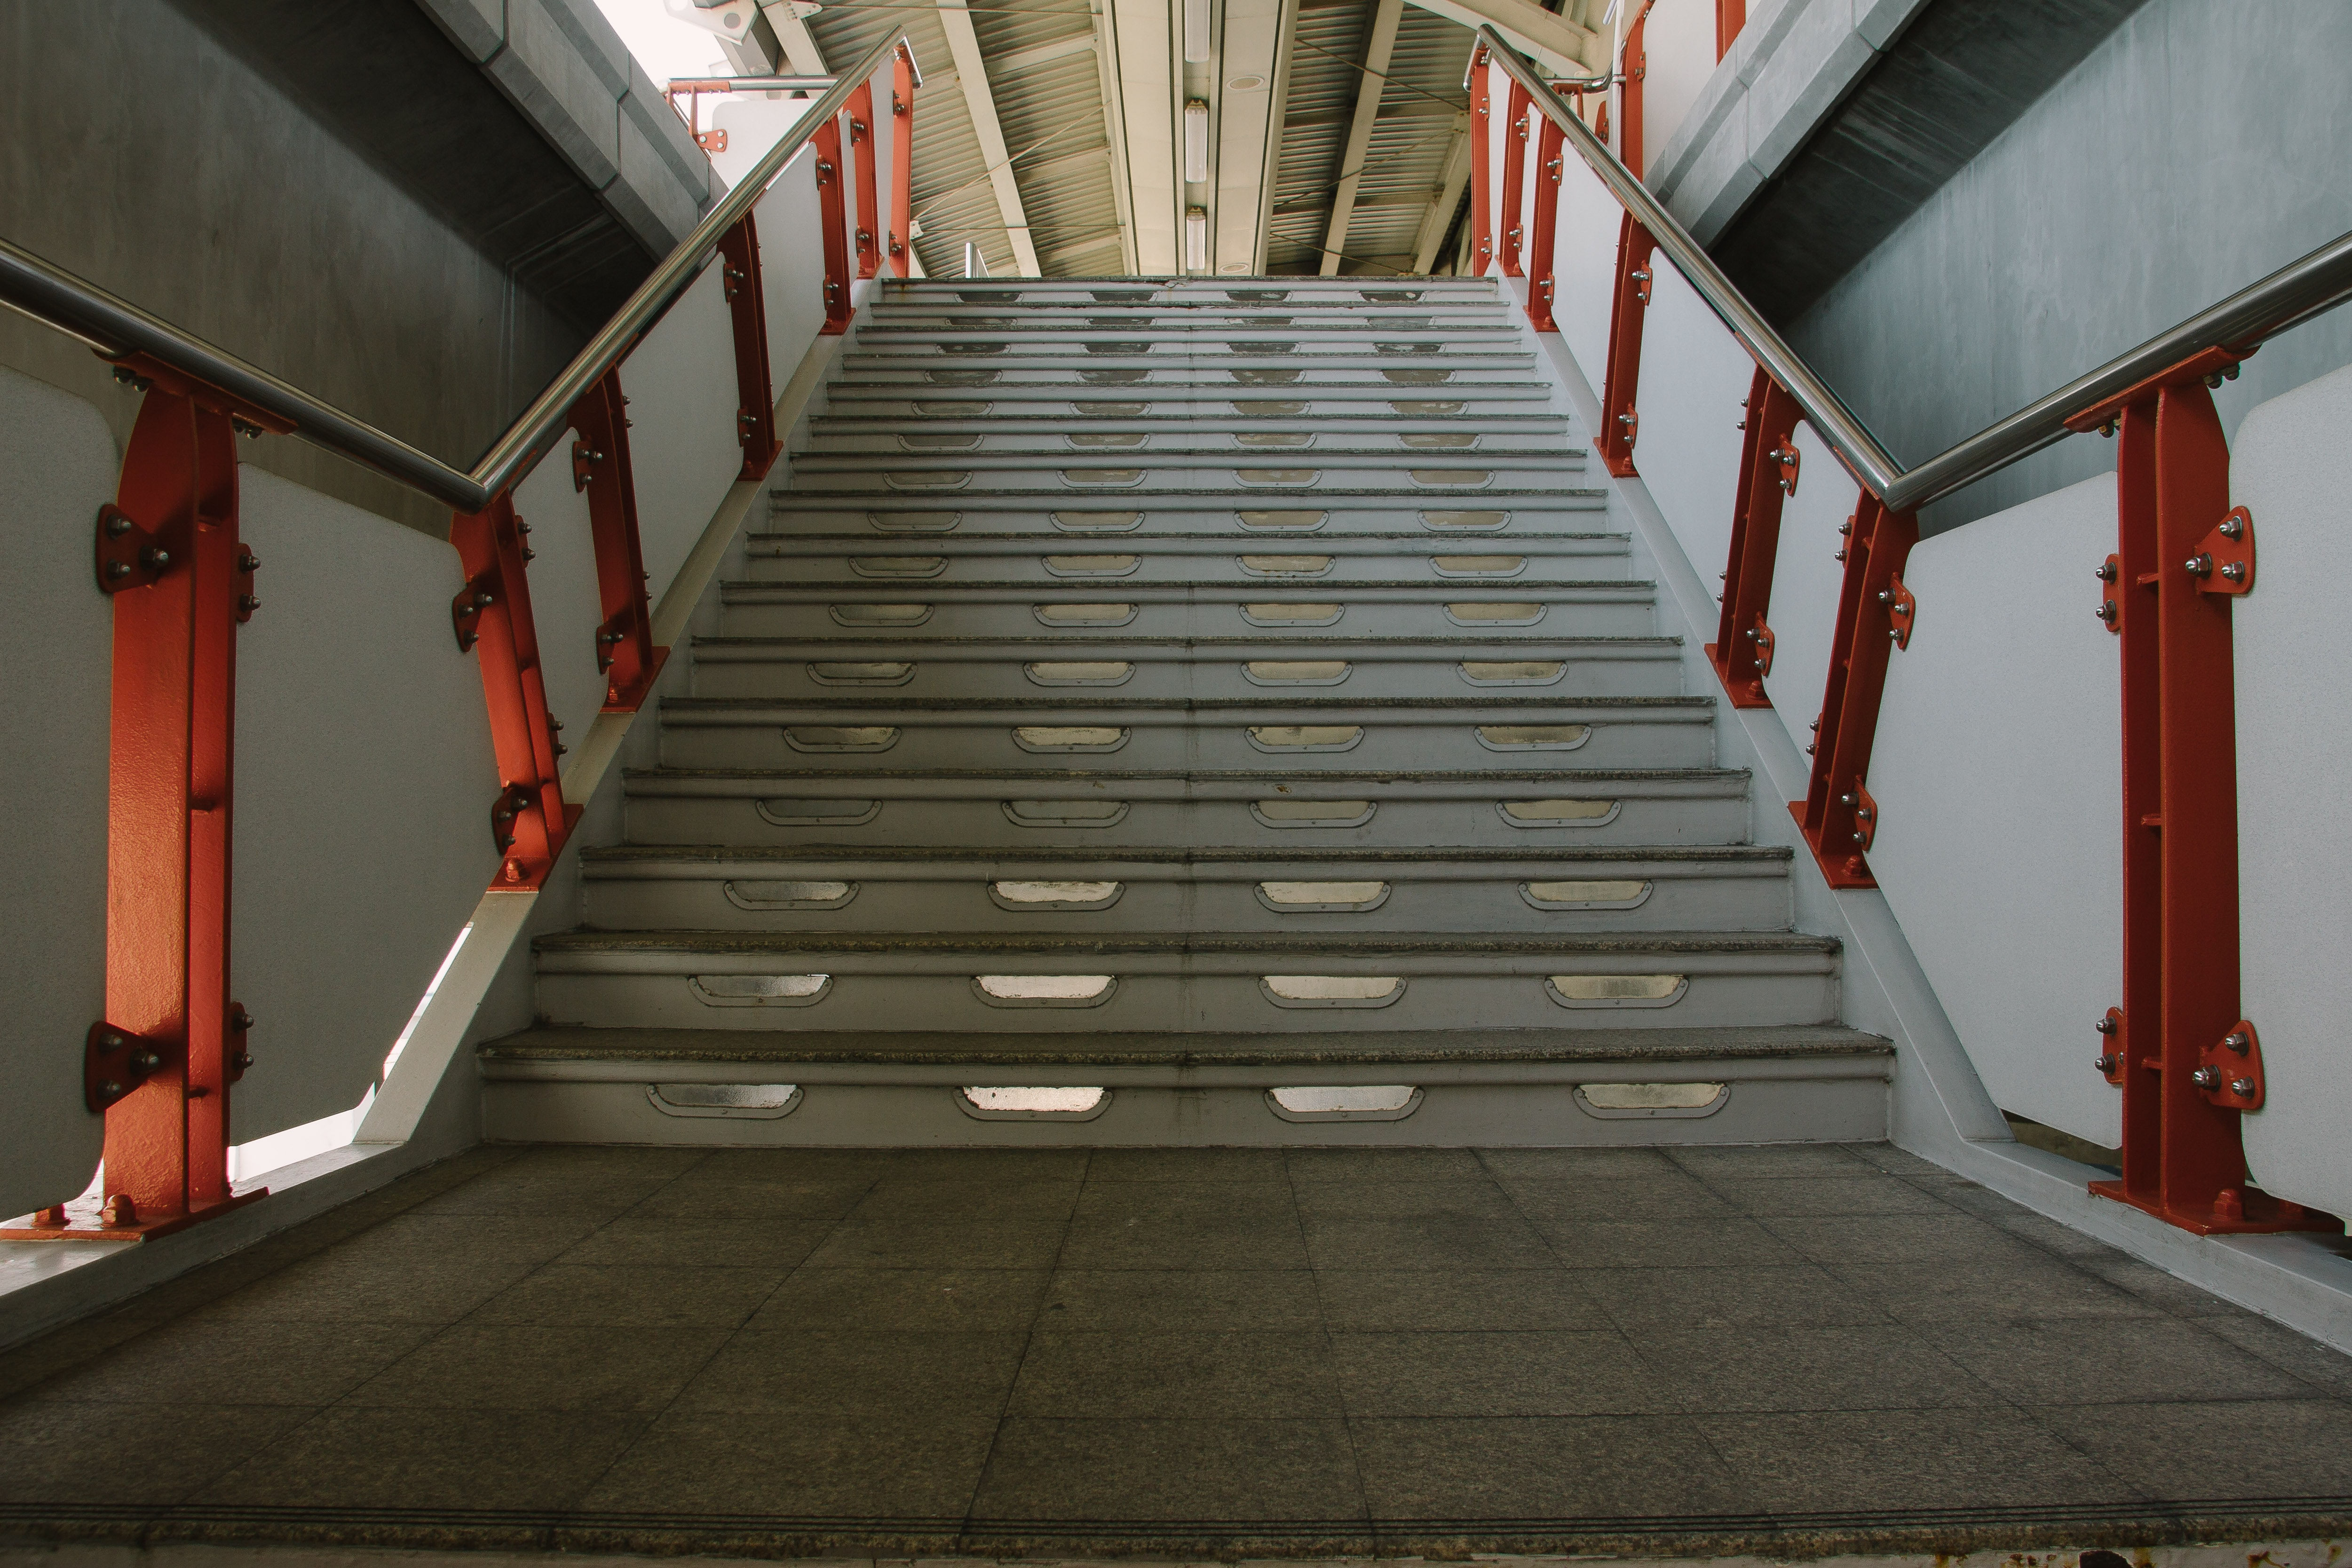upstairs: (693, 681, 1710, 1209)
